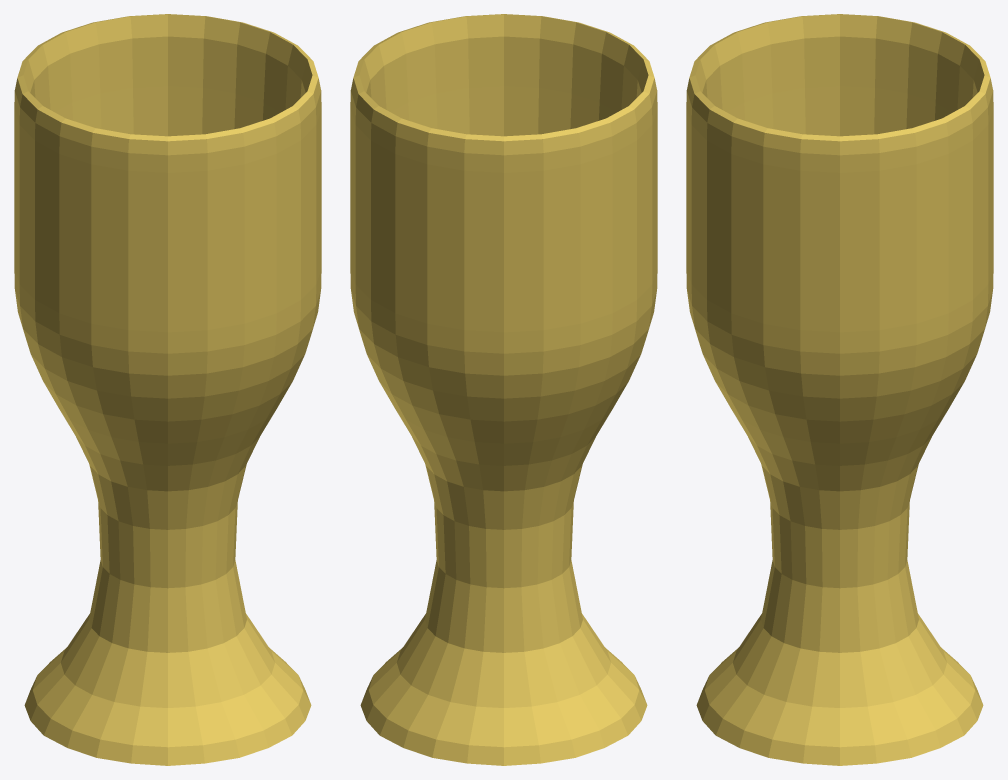
The model's file is Cup.fbx.
3 renders of one model, left to right at view 1: azimuth 30°, elevation 25°; view 2: azimuth 150°, elevation 25°; view 3: azimuth 270°, elevation 25°, orthographic.
Parts seen in each view (by area): view 1: Cylinder; view 2: Cylinder; view 3: Cylinder.
Boxes of the visible parts, x1,y1,x2,y2 form: Cylinder: (14, 14, 321, 765); Cylinder: (350, 14, 657, 765); Cylinder: (686, 14, 993, 765).
Bounding box in the file's own units: 434 × 997 × 434.
